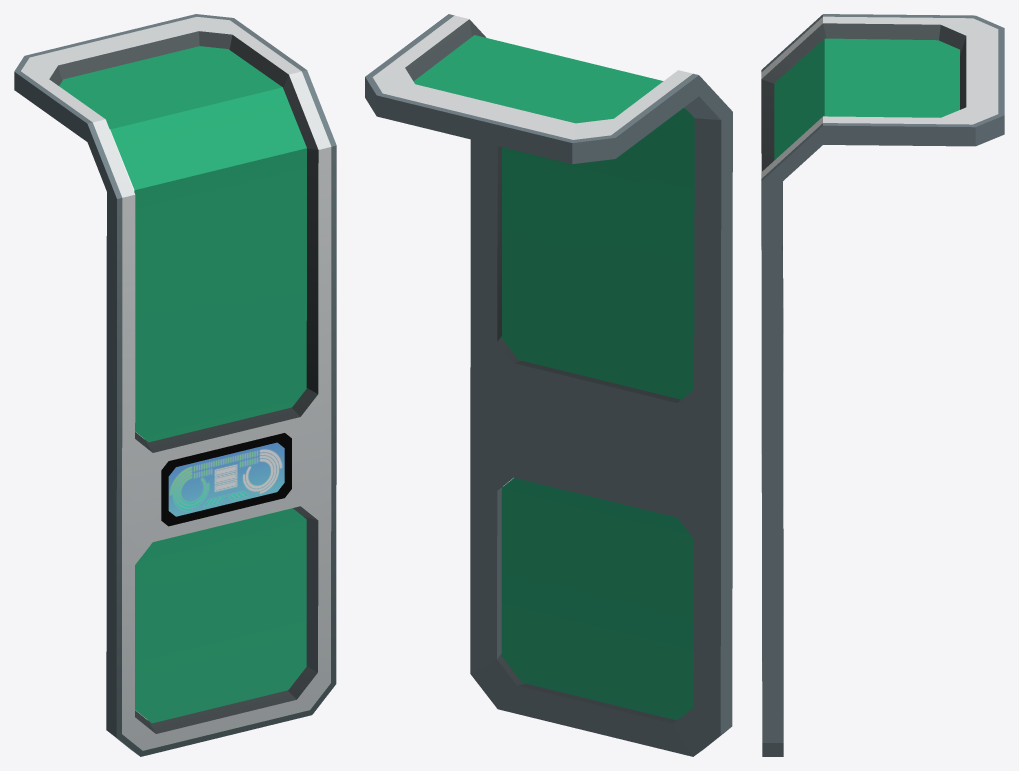
File: Capsule_001_door_001.fbx
3 renders of one model, left to right at view 1: azimuth 30°, elevation 25°; view 2: azimuth 150°, elevation 25°; view 3: azimuth 270°, elevation 25°, orthographic. The views are drawn at different scales.
Parts seen in each view (by area): view 1: Сapsule_001_door_001; view 2: Сapsule_001_door_001; view 3: Сapsule_001_door_001.
Boxes of the visible parts, x1,y1,x2,y2 form: Сapsule_001_door_001: [14, 14, 336, 756]; Сapsule_001_door_001: [365, 14, 732, 756]; Сapsule_001_door_001: [761, 14, 1004, 756].
Bounding box in the file's own units: 62.19 × 57.24 × 167.
